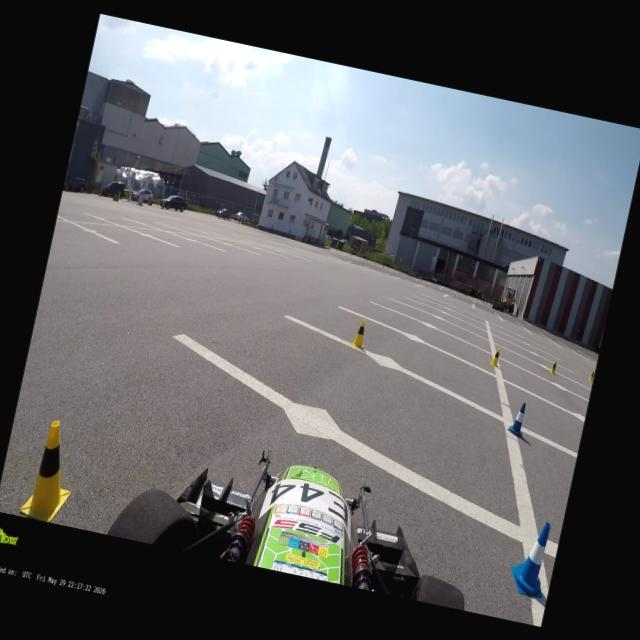blue_cone: (506, 516, 558, 598), (505, 400, 528, 438)
yellow_cone: (18, 418, 84, 524), (350, 318, 370, 349), (488, 347, 499, 368), (550, 360, 556, 374), (588, 370, 594, 382)
